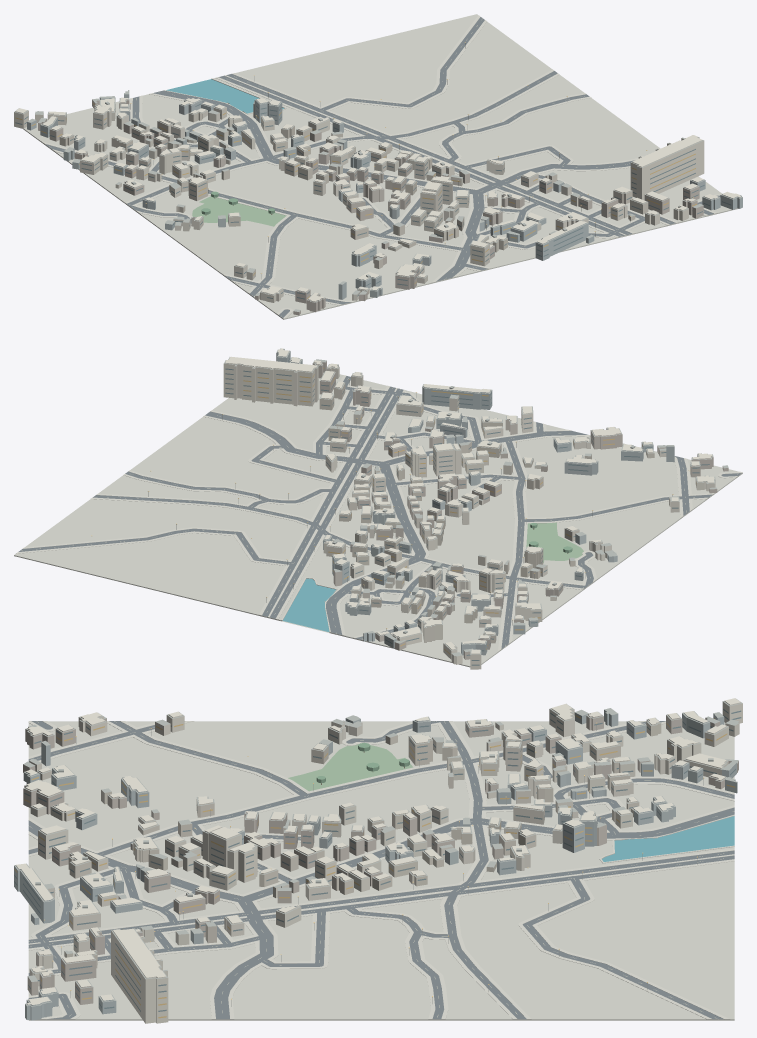
The picture shows the model from 3 angles, top to bottom: view 1: azimuth 30°, elevation 25°; view 2: azimuth 150°, elevation 25°; view 3: azimuth 270°, elevation 25°; orthographic projection. The views are drawn at different scales.
Parts seen in each view (by area): view 1: city; view 2: city; view 3: city.
Part boxes in pixels (left/top/right/bottom): city: left=14, top=14, right=742, bottom=319; city: left=14, top=348, right=742, bottom=669; city: left=14, top=698, right=742, bottom=1023.
Bounding box in the file's own units: 513 × 36.45 × 517.
